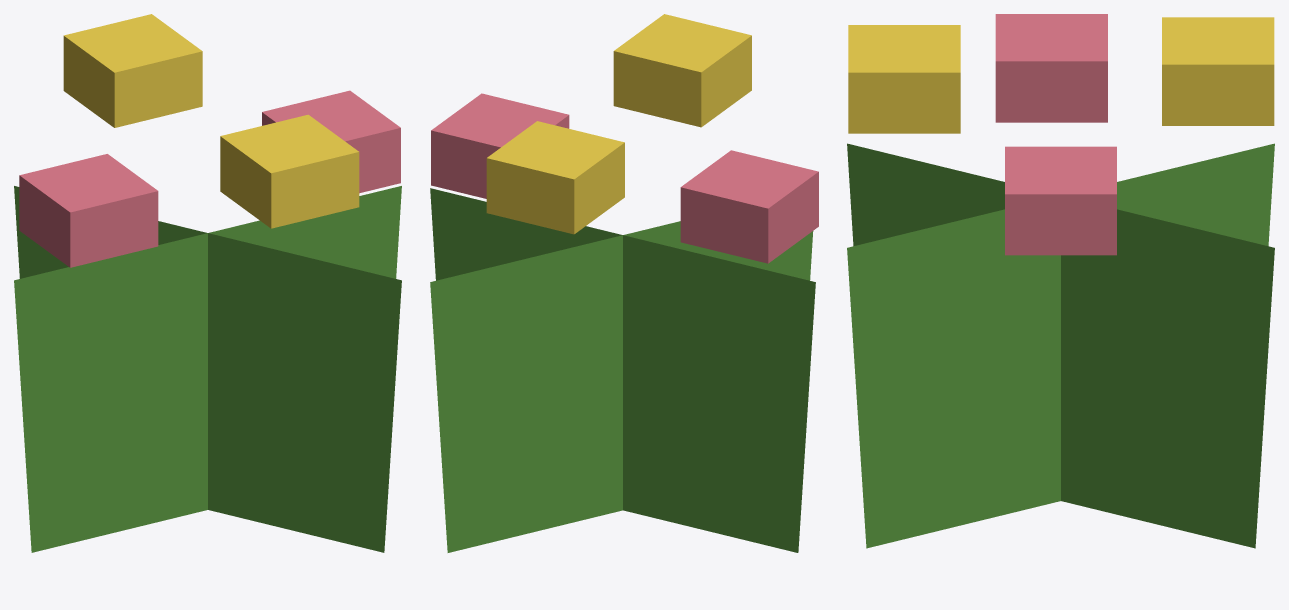
Rendered from flower.glb.
The picture shows the model from 3 angles, left to right: view 1: azimuth 30°, elevation 25°; view 2: azimuth 150°, elevation 25°; view 3: azimuth 270°, elevation 25°; orthographic projection. The views are drawn at different scales.
Visible parts, largest first — view 1: flower; view 2: flower; view 3: flower.
Boxes of the visible parts, x1,y1,x2,y2 form: flower: (14, 14, 401, 552); flower: (430, 14, 818, 552); flower: (847, 14, 1274, 548).
Bounding box in the file's own units: 0.44 × 0.45 × 0.3811.
